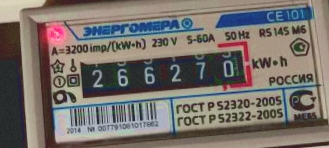0: (220, 57, 234, 79)
2: (89, 66, 104, 88), (167, 61, 181, 83)
6: (115, 66, 129, 87), (141, 64, 155, 84)
7: (192, 59, 207, 81)
screen: (68, 36, 259, 108)
